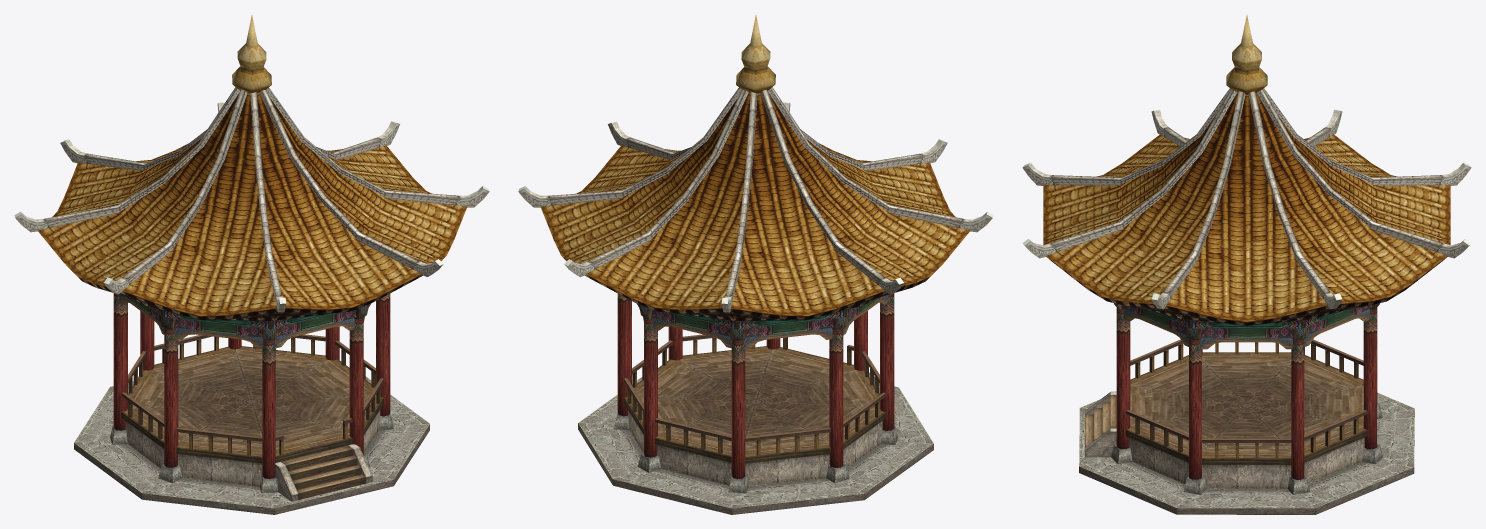
The model's file is otherworld_house_01.glb.
3 renders of one model, left to right at view 1: azimuth 30°, elevation 25°; view 2: azimuth 150°, elevation 25°; view 3: azimuth 270°, elevation 25°, orthographic.
Visible parts, largest first — view 1: otherworld_house_01; view 2: otherworld_house_01; view 3: otherworld_house_01.
Boxes of the visible parts, bbox=[...] form: otherworld_house_01: bbox=[14, 15, 489, 514]; otherworld_house_01: bbox=[518, 15, 993, 514]; otherworld_house_01: bbox=[1022, 15, 1471, 514].
Bounding box in the file's own units: 14.15 × 14.95 × 14.15.
1 material, 1 textured.
